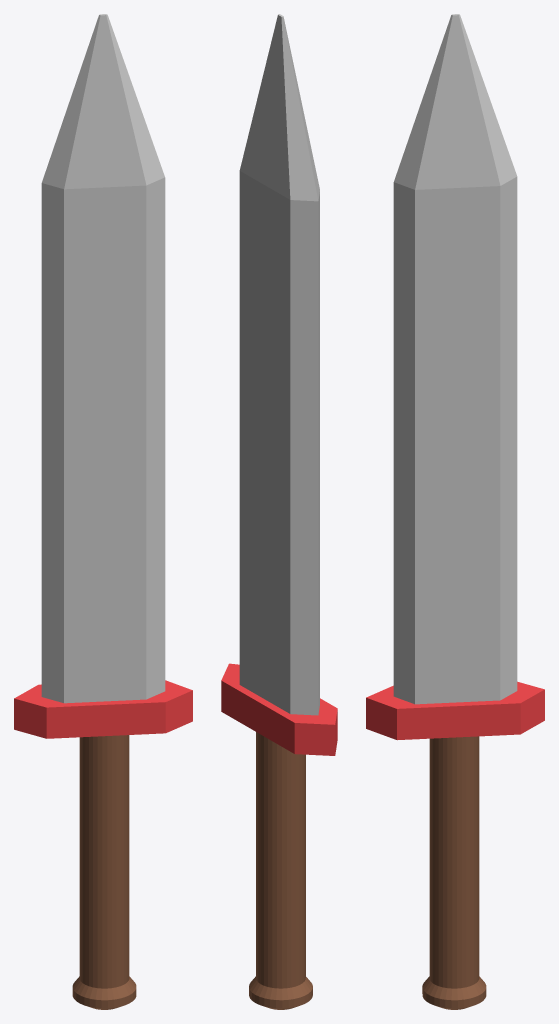
The model's file is Fiery Sword.fbx.
The picture shows the model from 3 angles, left to right: view 1: azimuth 90°, elevation 25°; view 2: azimuth 210°, elevation 25°; view 3: azimuth 270°, elevation 25°; orthographic projection.
Visible parts, largest first — view 1: Circle.001; view 2: Circle.001; view 3: Circle.001.
Boxes of the visible parts, x1,y1,x2,y2 form: Circle.001: (14, 14, 192, 1009); Circle.001: (221, 14, 337, 1009); Circle.001: (366, 14, 544, 1009).
Bounding box in the file's own units: 170 × 2736 × 449.
